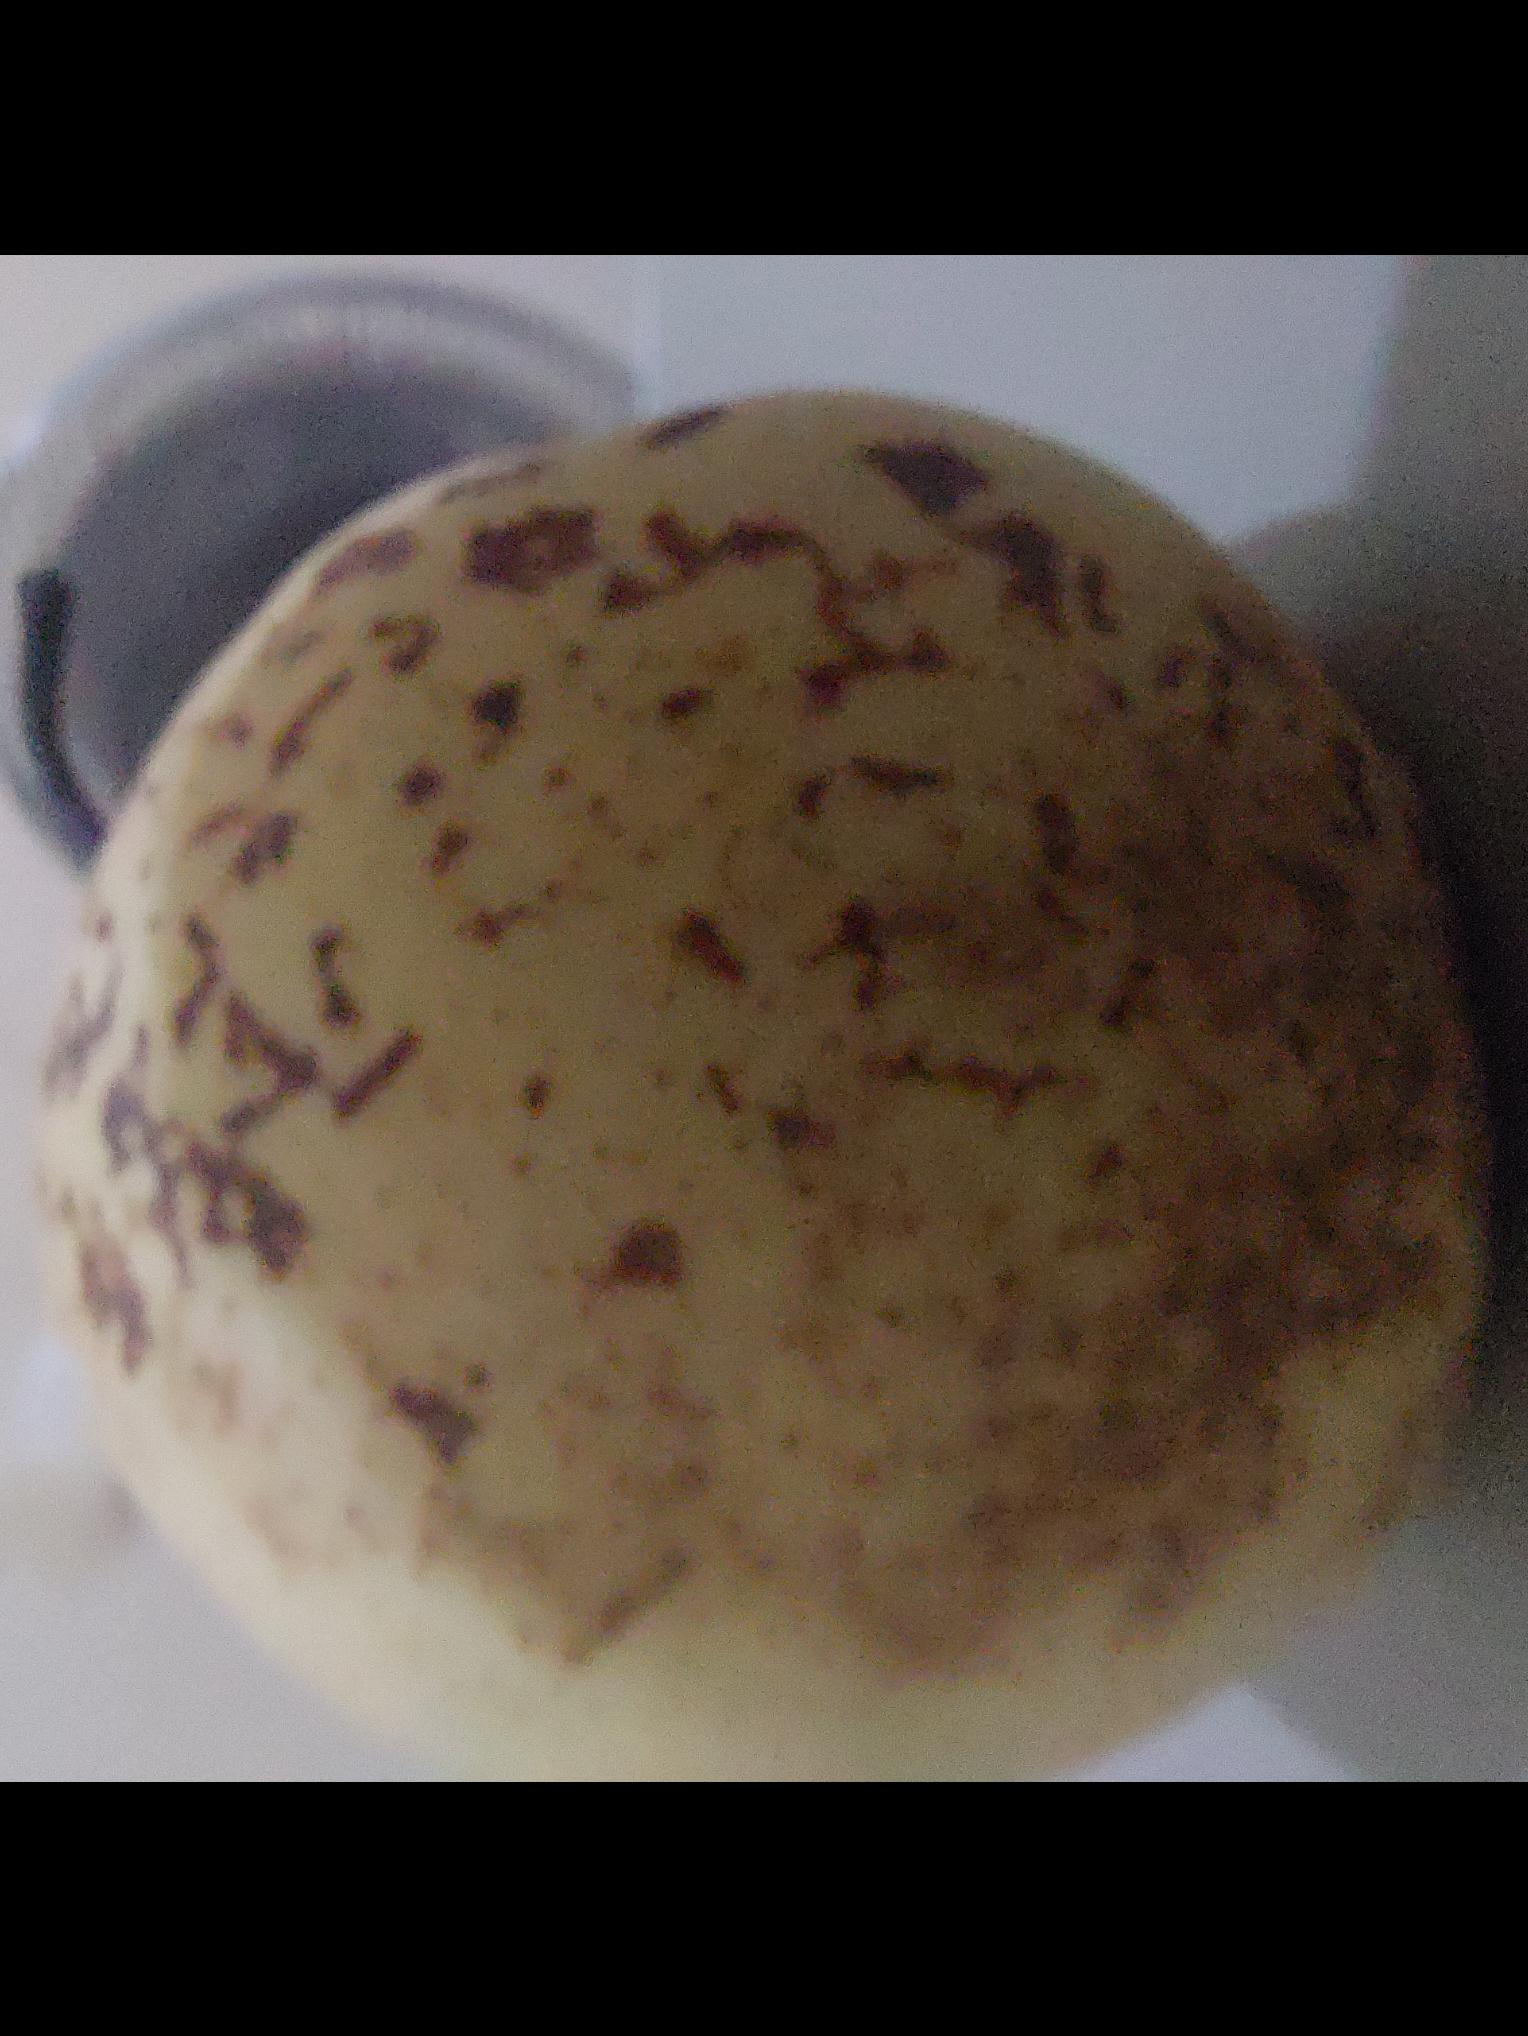Bad Pear: (22, 388, 1514, 1783)
